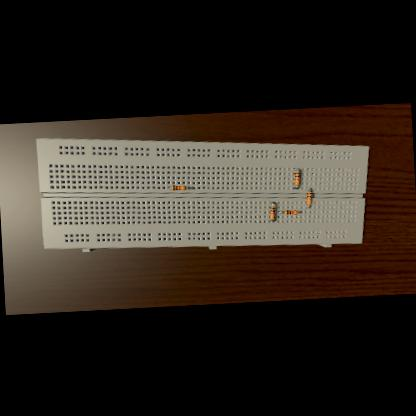breadboard: (36, 119, 374, 260)
resistor: (293, 171, 300, 184), (305, 190, 312, 203), (172, 184, 186, 190), (284, 209, 298, 214), (270, 205, 275, 218)
wire: (293, 184, 297, 187), (306, 187, 310, 190), (279, 210, 284, 212), (293, 168, 297, 170), (168, 186, 172, 188), (186, 186, 190, 188), (270, 201, 272, 204), (306, 205, 309, 207), (269, 218, 272, 220)
